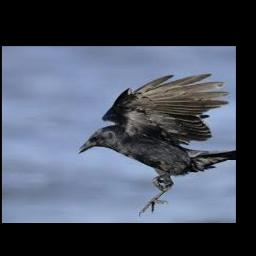Crow: (77, 73, 236, 219)
